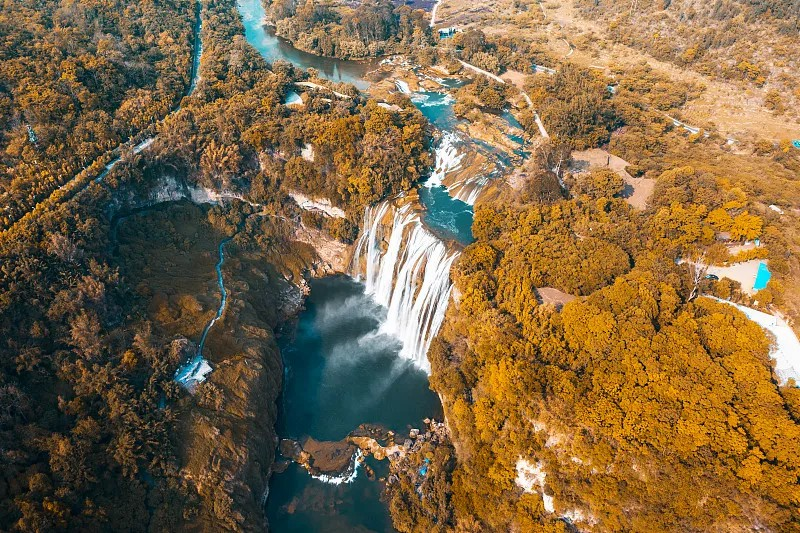Huangguoshu: (354, 205, 452, 378)
